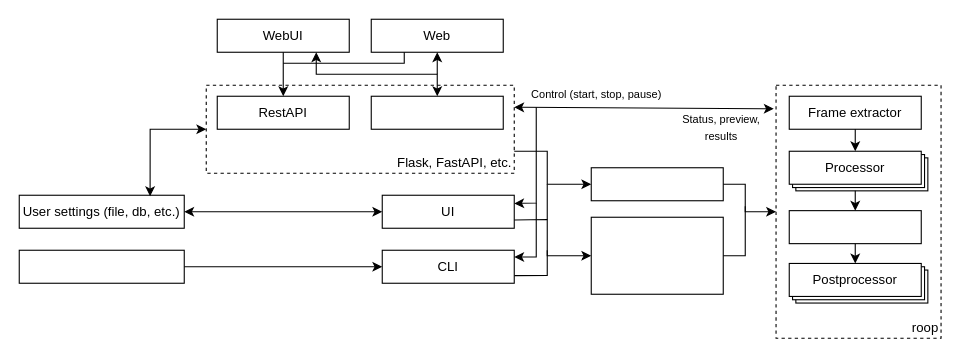
The diagram is 960 pixels wide and 358 high, and some of its shapes have lost their labels. Here are the shapes that lost their labels. From the top down, the centre of each, then its label:
At point 436,112: "SocketIO".
At point 656,184: "roop params".
At point 854,227: "Frame collector".
At point 101,266: "CLI args".
At point 656,255: "Other params (extractor, processors, collector, postprocessors)".
